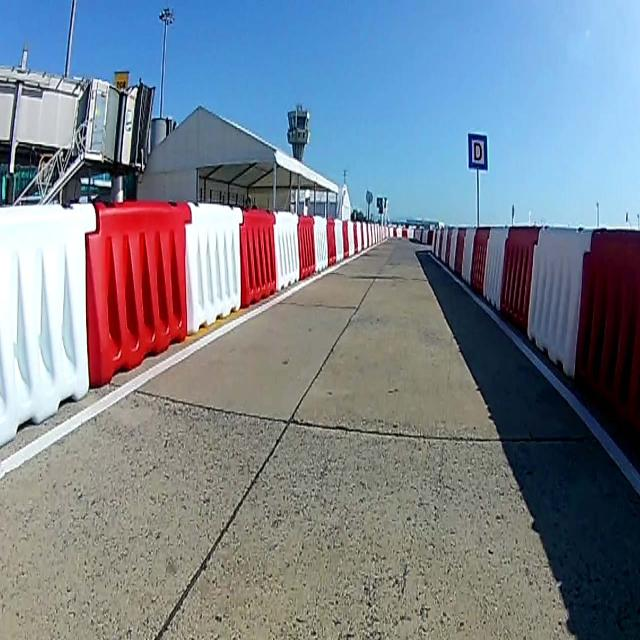durak: (467, 134, 489, 174)
